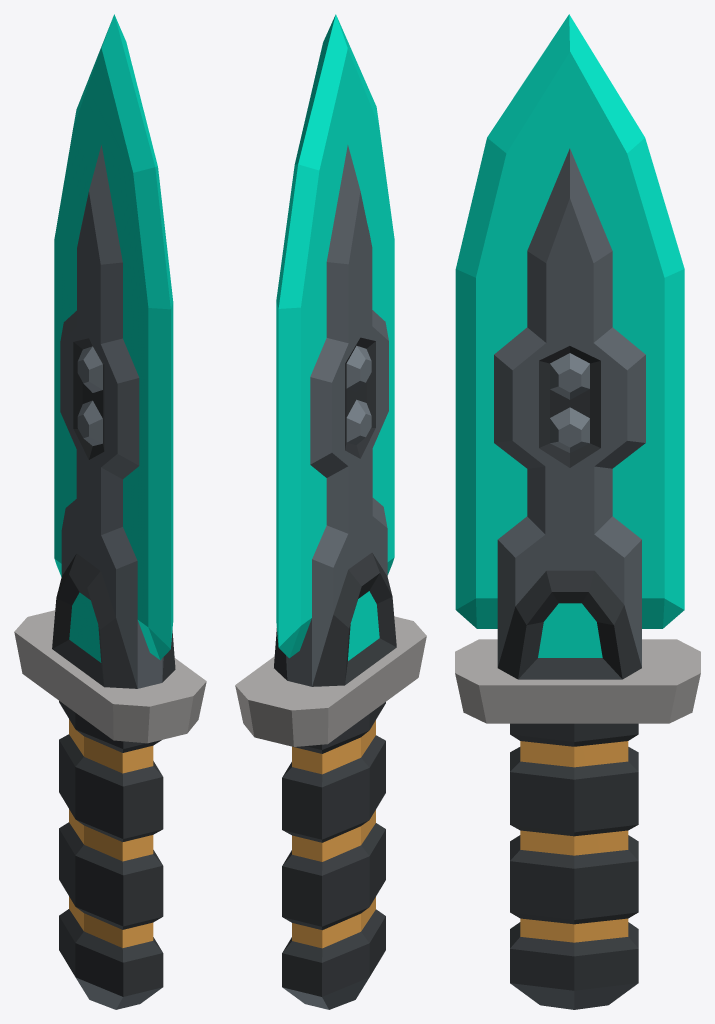
The model's file is worlds_SM_Wep_Dagger_06.gltf.
3 views of the same model, side by side, from view 1: azimuth 30°, elevation 25°; view 2: azimuth 150°, elevation 25°; view 3: azimuth 270°, elevation 25° (orthographic).
Parts seen in each view (by area): view 1: SM_Wep_Dagger_06; view 2: SM_Wep_Dagger_06; view 3: SM_Wep_Dagger_06.
Boxes of the visible parts, x1,y1,x2,y2 form: SM_Wep_Dagger_06: (14, 14, 206, 1009); SM_Wep_Dagger_06: (235, 14, 426, 1009); SM_Wep_Dagger_06: (455, 14, 700, 1009).
Bounding box in the file's own units: 0.0513 × 0.5139 × 0.1162.
Materials: 1 (1 with a texture image).
